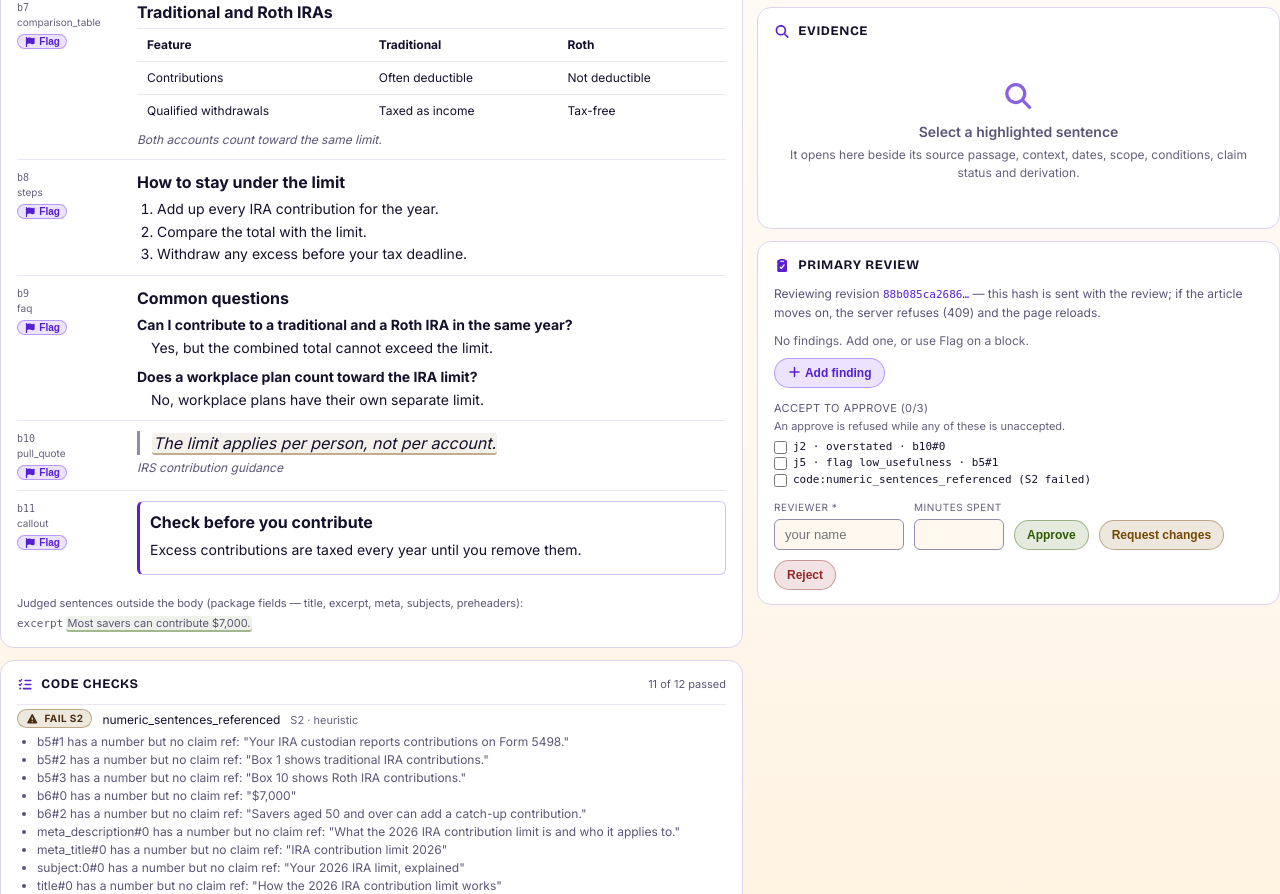
Test: article view — GET articles/{id} › places every judged sentence and pairs it with its source passage
The width and height of the screenshot is (1280, 894).
(page scrolled)
Expected: the element with test id "judged-outside-body" shows "Most savers can contribute $7,000.", [68,616,251,630]
Click the 1st button with test id "judged-sentence": (324, 444) [152,433,497,455]
(page scrolled)
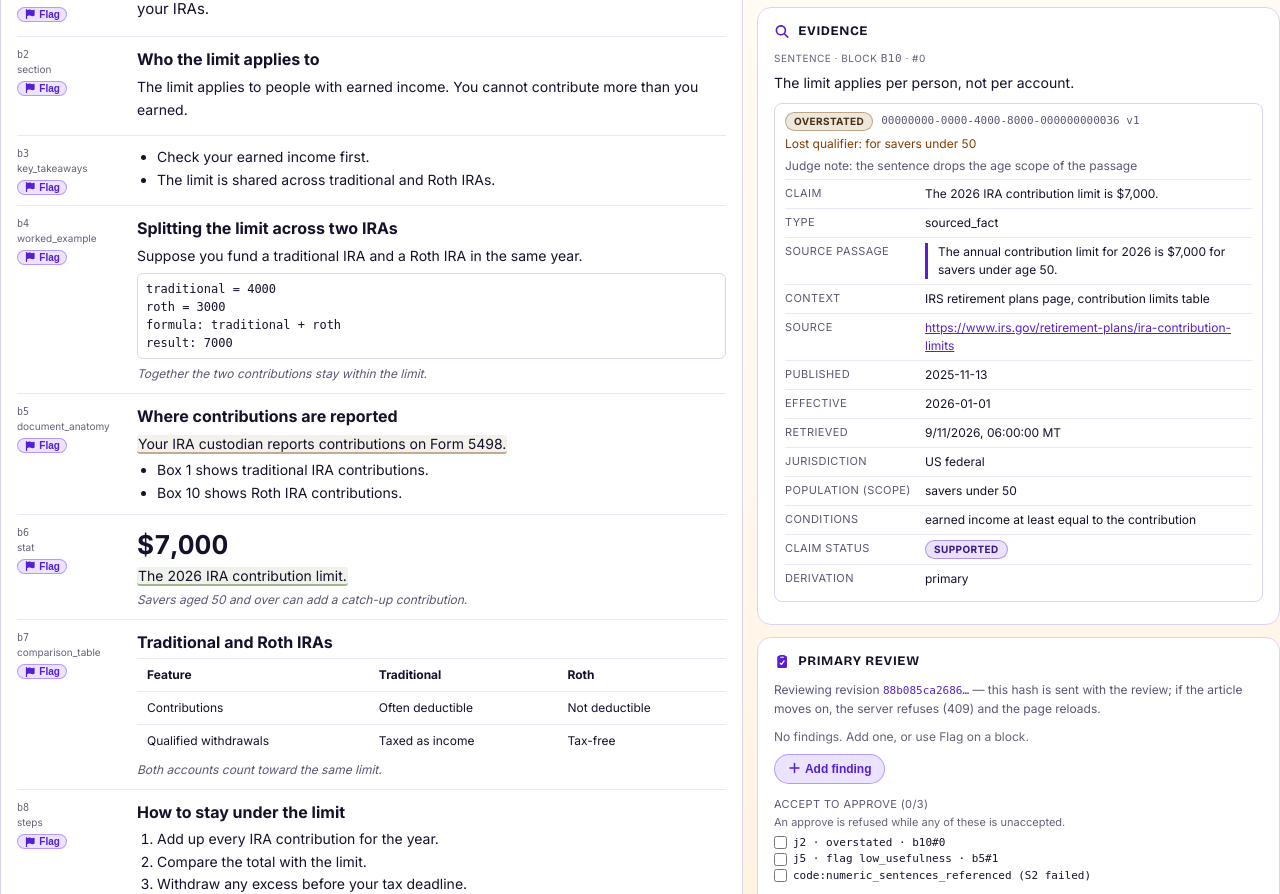
Expected: the text "The annual contribution limit for 2026 is $7,000 for savers under age 50." is shown, [925,242,1252,278]
Expected: the text "savers under 50" is shown, [925,482,1017,497]
Click the 2nd button with test id "judged-sentence": (322, 445) [137,435,507,454]
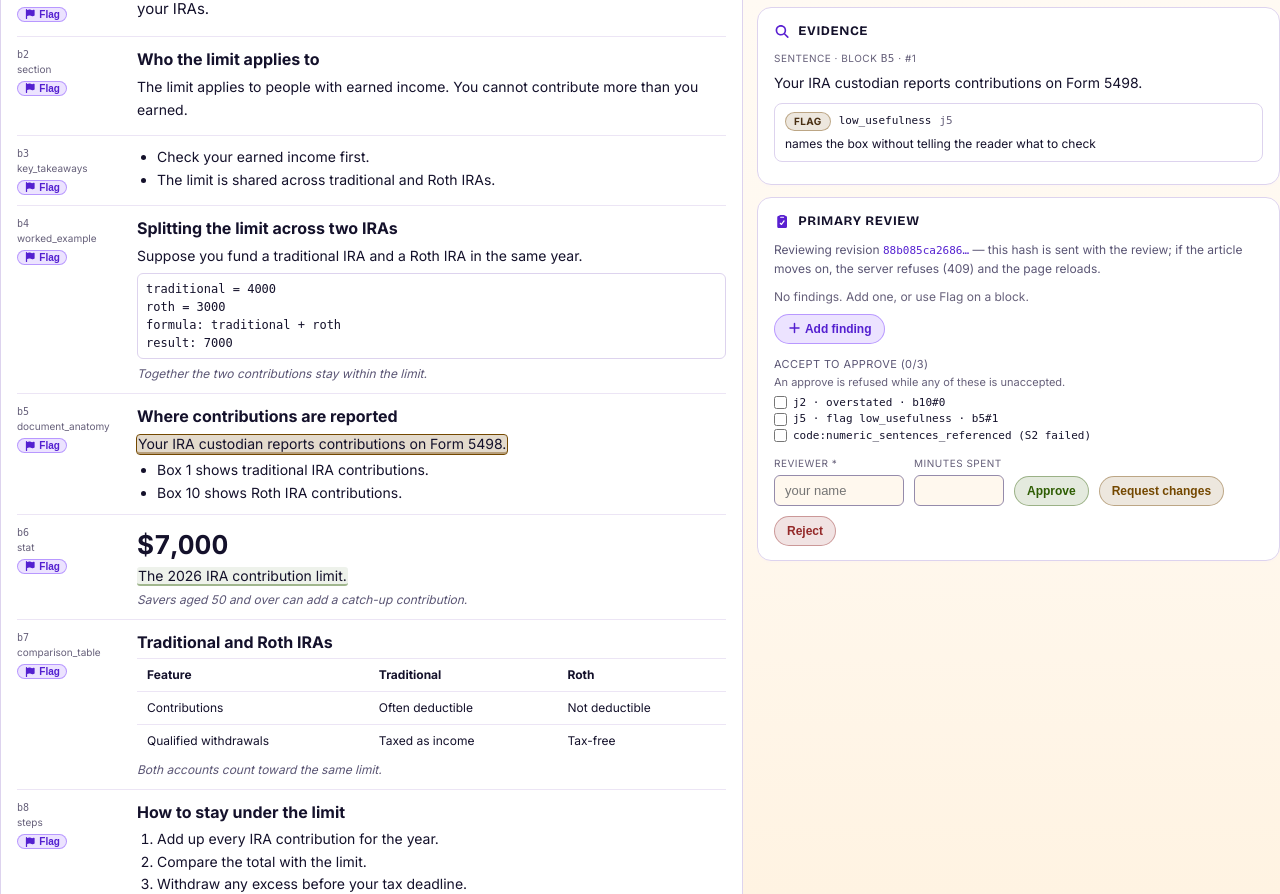
Expected: the text "low_usefulness" is shown, [839,112,931,129]
Expected: the text "names the box without telling the reader what to check" is shown, [785,135,1096,150]
